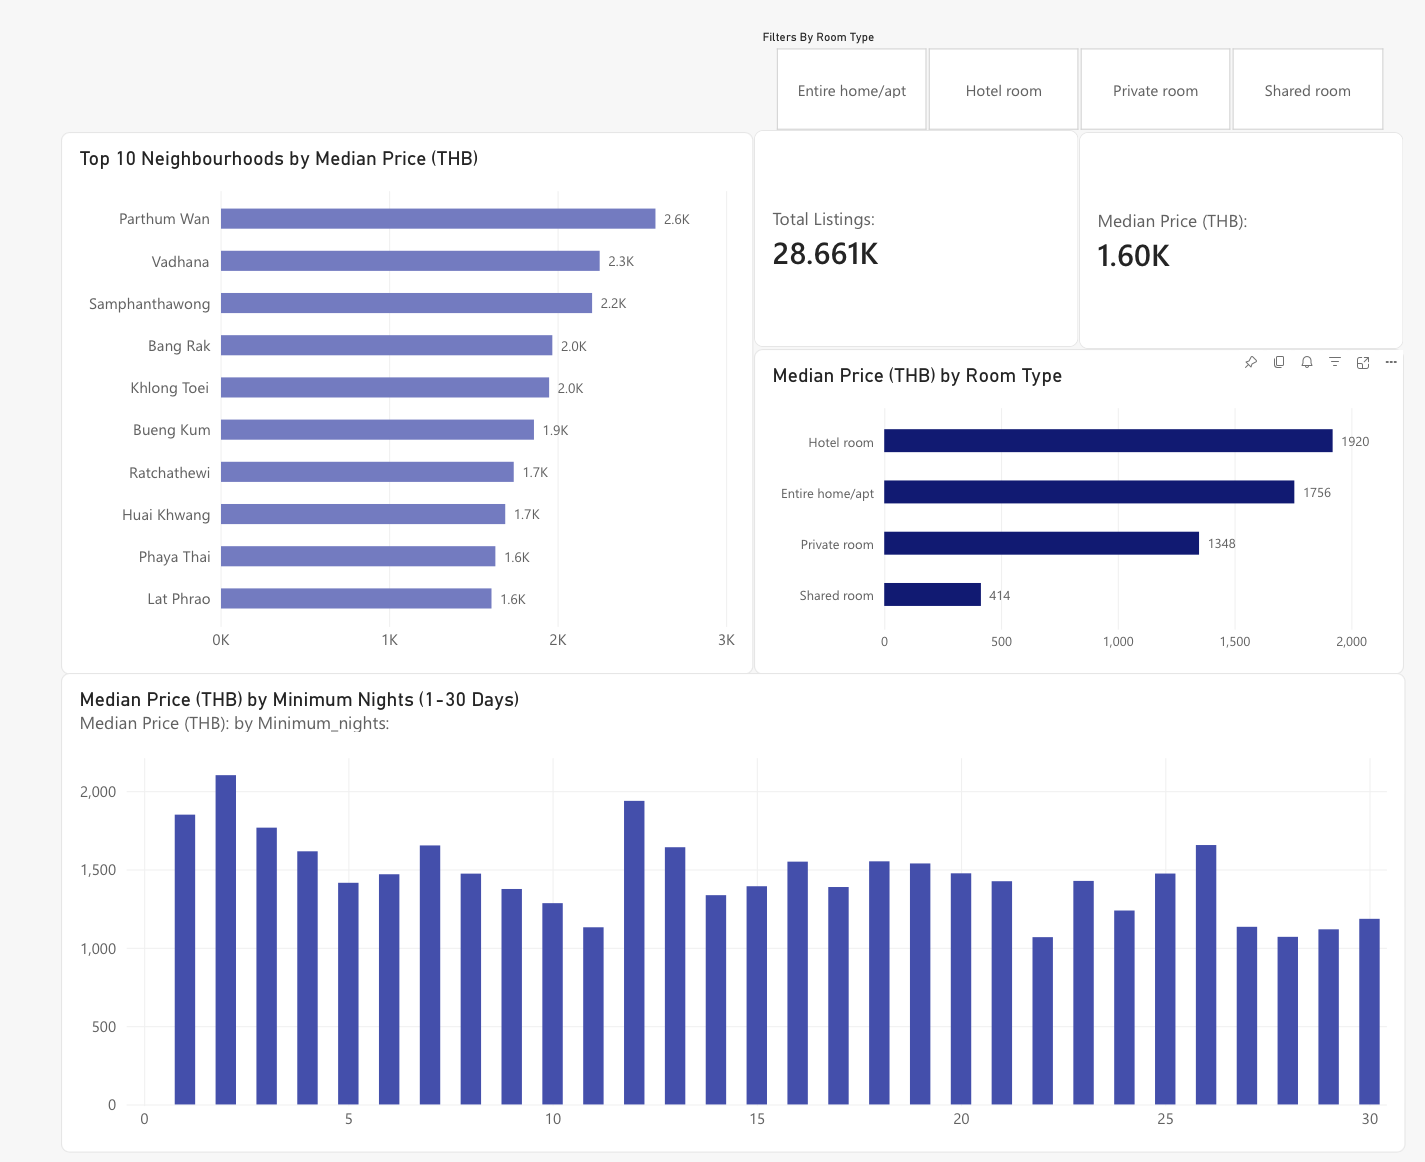

The dashboard page shown, as its layout file describes it:
{"tool":"powerbi","page":{"name":"Price Drivers","canvas":[1920,1080],"ordinal":0},"visuals":[{"type":"cardVisual","fields":{"Data":["CountNonNull(fact_listings.listing_id)"]},"box":[1008,125.7,299.6,200.1],"z":0},{"type":"cardVisual","fields":{"Data":["Median(fact_listings.price)"]},"box":[1307.6,126.7,299.6,200.1],"z":1000},{"type":"barChart","title":"Median Price (THB) by Room Type","fields":{"Category":["dim_room_type.room_type_name"],"Y":["Median(fact_listings.price)"]},"box":[1008.3,327.2,599.2,299.6],"z":2000},{"type":"clusteredBarChart","title":"Top 10 Neighbourhoods by Median Price (THB)","fields":{"Category":["dim_neighbourhood.neighbourhood_name"],"Y":["Median(fact_listings.price)"]},"box":[369.8,126.8,637.9,500],"z":3000},{"type":"slicer","fields":{"Values":["dim_room_type.room_type_name"]},"box":[1008.4,33.6,598.3,93],"z":4000},{"type":"clusteredColumnChart","title":"Median Price (THB) by Minimum Nights (1-30 Days)","fields":{"Category":["fact_listings.minimum_nights"],"Y":["Median(fact_listings.price)"]},"box":[369.7,626.1,1238.3,442.3],"z":5000}]}

Visuals, with their boxes on the page's 1920x1080 design canvas (x1, y1, x2, y2). These are canvas units, not pixel positions in the 1425x1162 screenshot, which may show the page scaled, cropped or inside an application window:
cardVisual - CountNonNull(fact_listings.listing_id): x1=1008, y1=126, x2=1308, y2=326
cardVisual - Median(fact_listings.price): x1=1308, y1=127, x2=1607, y2=327
"Median Price (THB) by Room Type" barChart: x1=1008, y1=327, x2=1608, y2=627
"Top 10 Neighbourhoods by Median Price (THB)" clusteredBarChart: x1=370, y1=127, x2=1008, y2=627
slicer - dim_room_type.room_type_name: x1=1008, y1=34, x2=1607, y2=127
"Median Price (THB) by Minimum Nights (1-30 Days)" clusteredColumnChart: x1=370, y1=626, x2=1608, y2=1068
